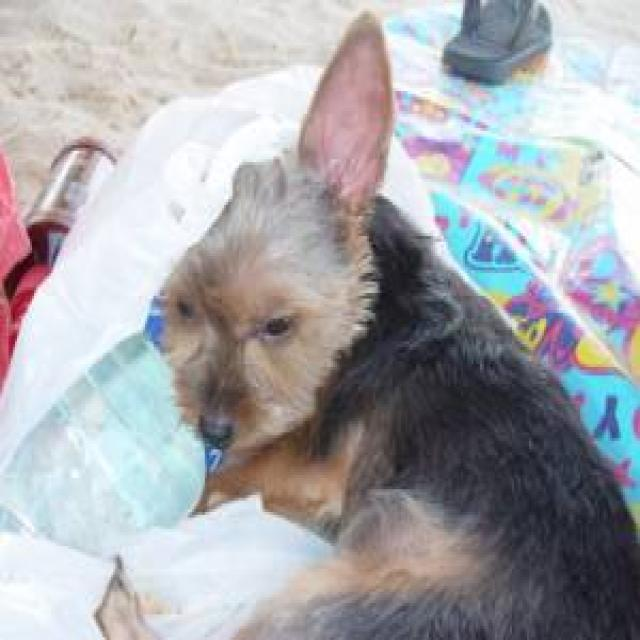dog-yorkshire_terrier: (164, 3, 636, 634)
